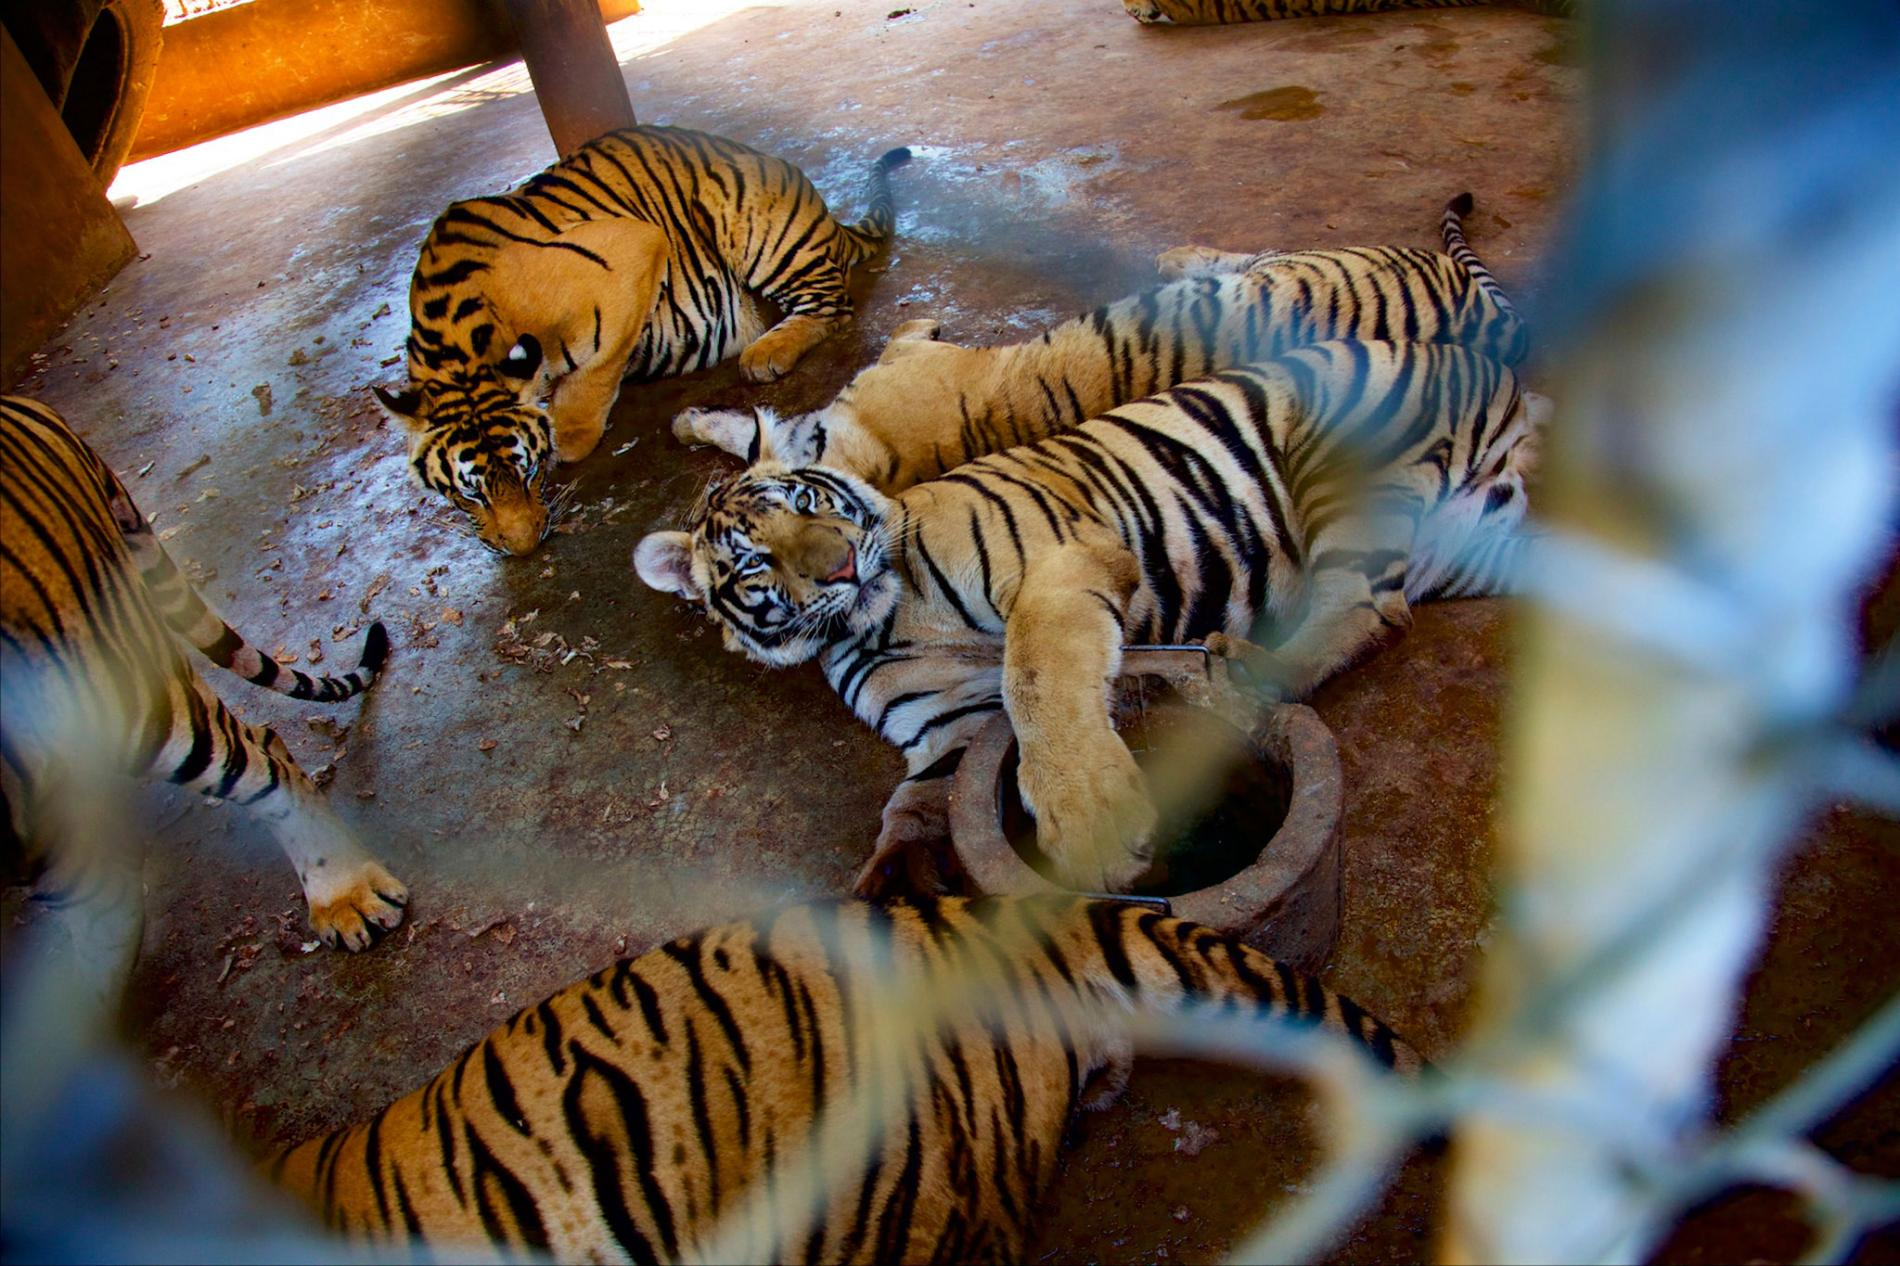Tiger: (671, 329, 1603, 886), (369, 100, 896, 586)
